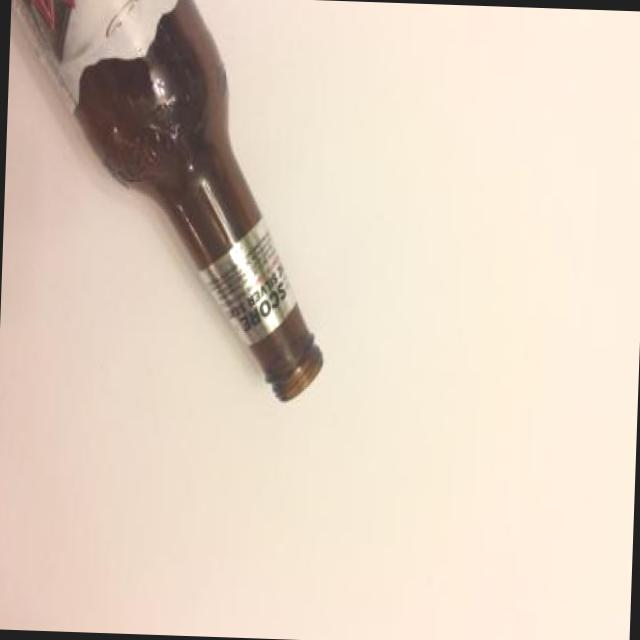chai_thuy_tinh: (74, 0, 323, 401)
giay: (10, 0, 176, 112)
